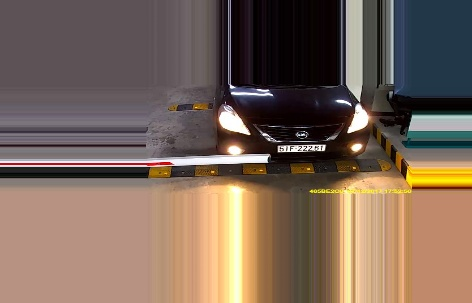plate: (277, 142, 327, 154)
